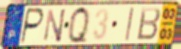3: (92, 8, 111, 43)
B: (136, 6, 162, 42)
I: (124, 7, 135, 42)
N: (43, 8, 67, 44)
P: (19, 7, 45, 45)
Q: (67, 5, 90, 46)
